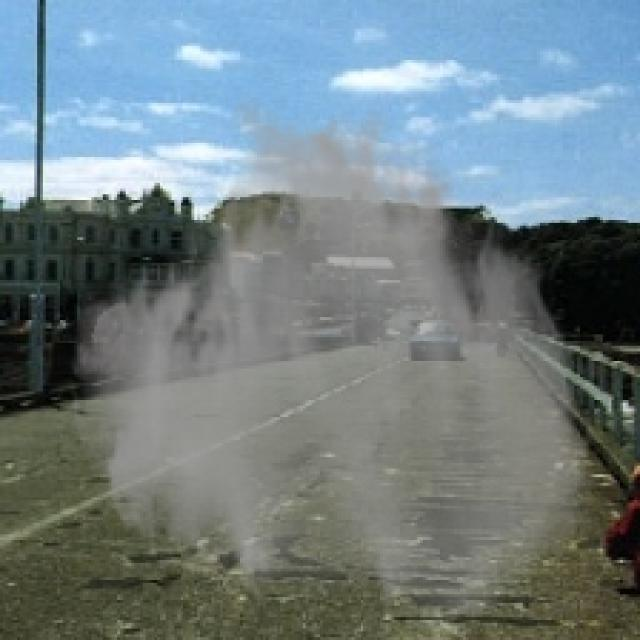smoke: (66, 91, 600, 632)
